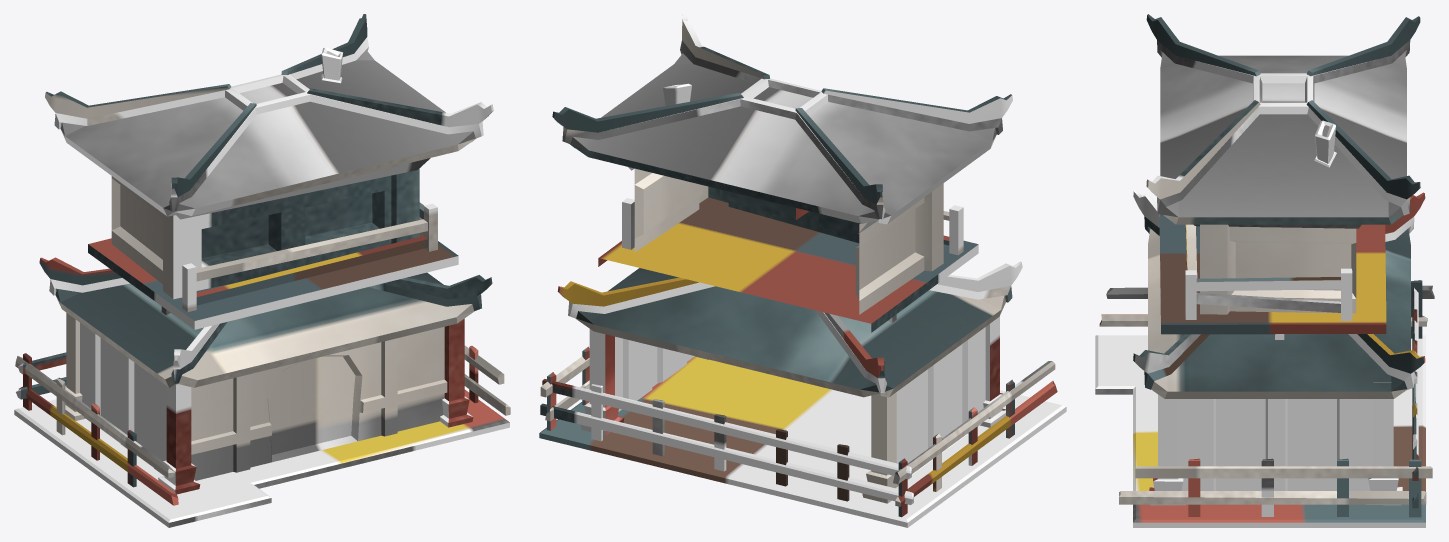
File: uvtest.fbx
3 renders of one model, left to right at view 1: azimuth 30°, elevation 25°; view 2: azimuth 150°, elevation 25°; view 3: azimuth 270°, elevation 25°, orthographic. The views are drawn at different scales.
Parts seen in each view (by area): view 1: blacksmith_3lvl1; view 2: blacksmith_3lvl1; view 3: blacksmith_3lvl1.
Part boxes in pixels (left/top/right/bottom): blacksmith_3lvl1: left=14, top=14, right=510, bottom=527; blacksmith_3lvl1: left=539, top=14, right=1066, bottom=527; blacksmith_3lvl1: left=1095, top=14, right=1434, bottom=527.
Bounding box in the file's own units: 6.07 × 5.33 × 4.6.
